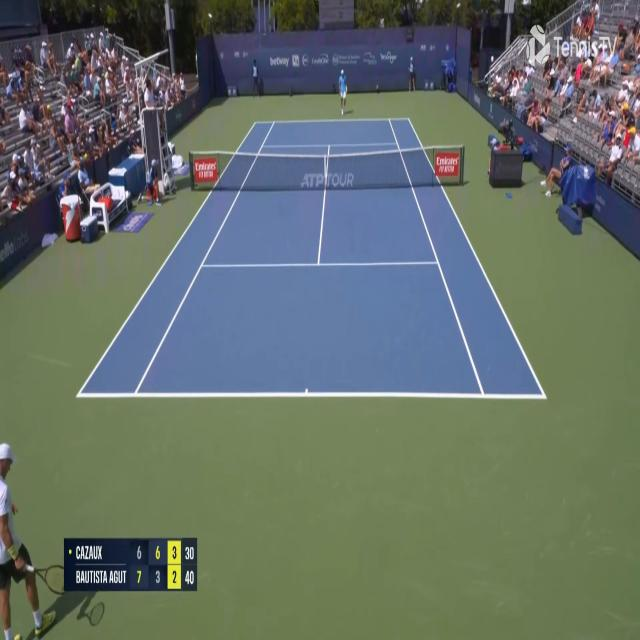tennis-player: (0, 434, 61, 639), (333, 66, 349, 115)
